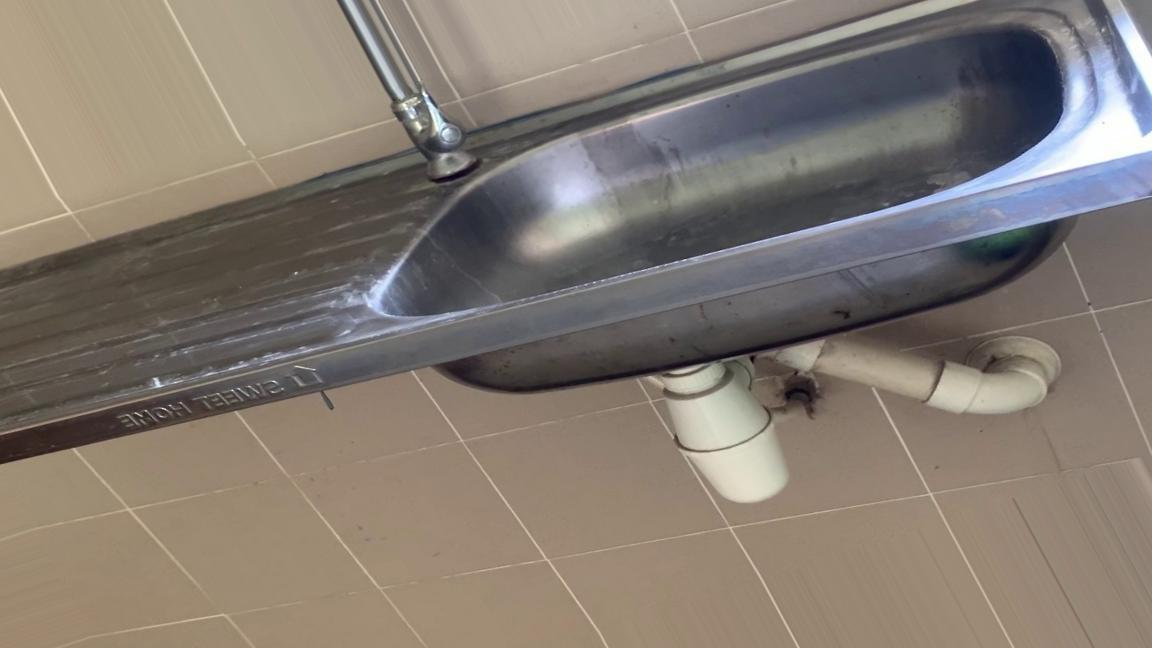Lavaplatos: (209, 0, 1152, 503)
